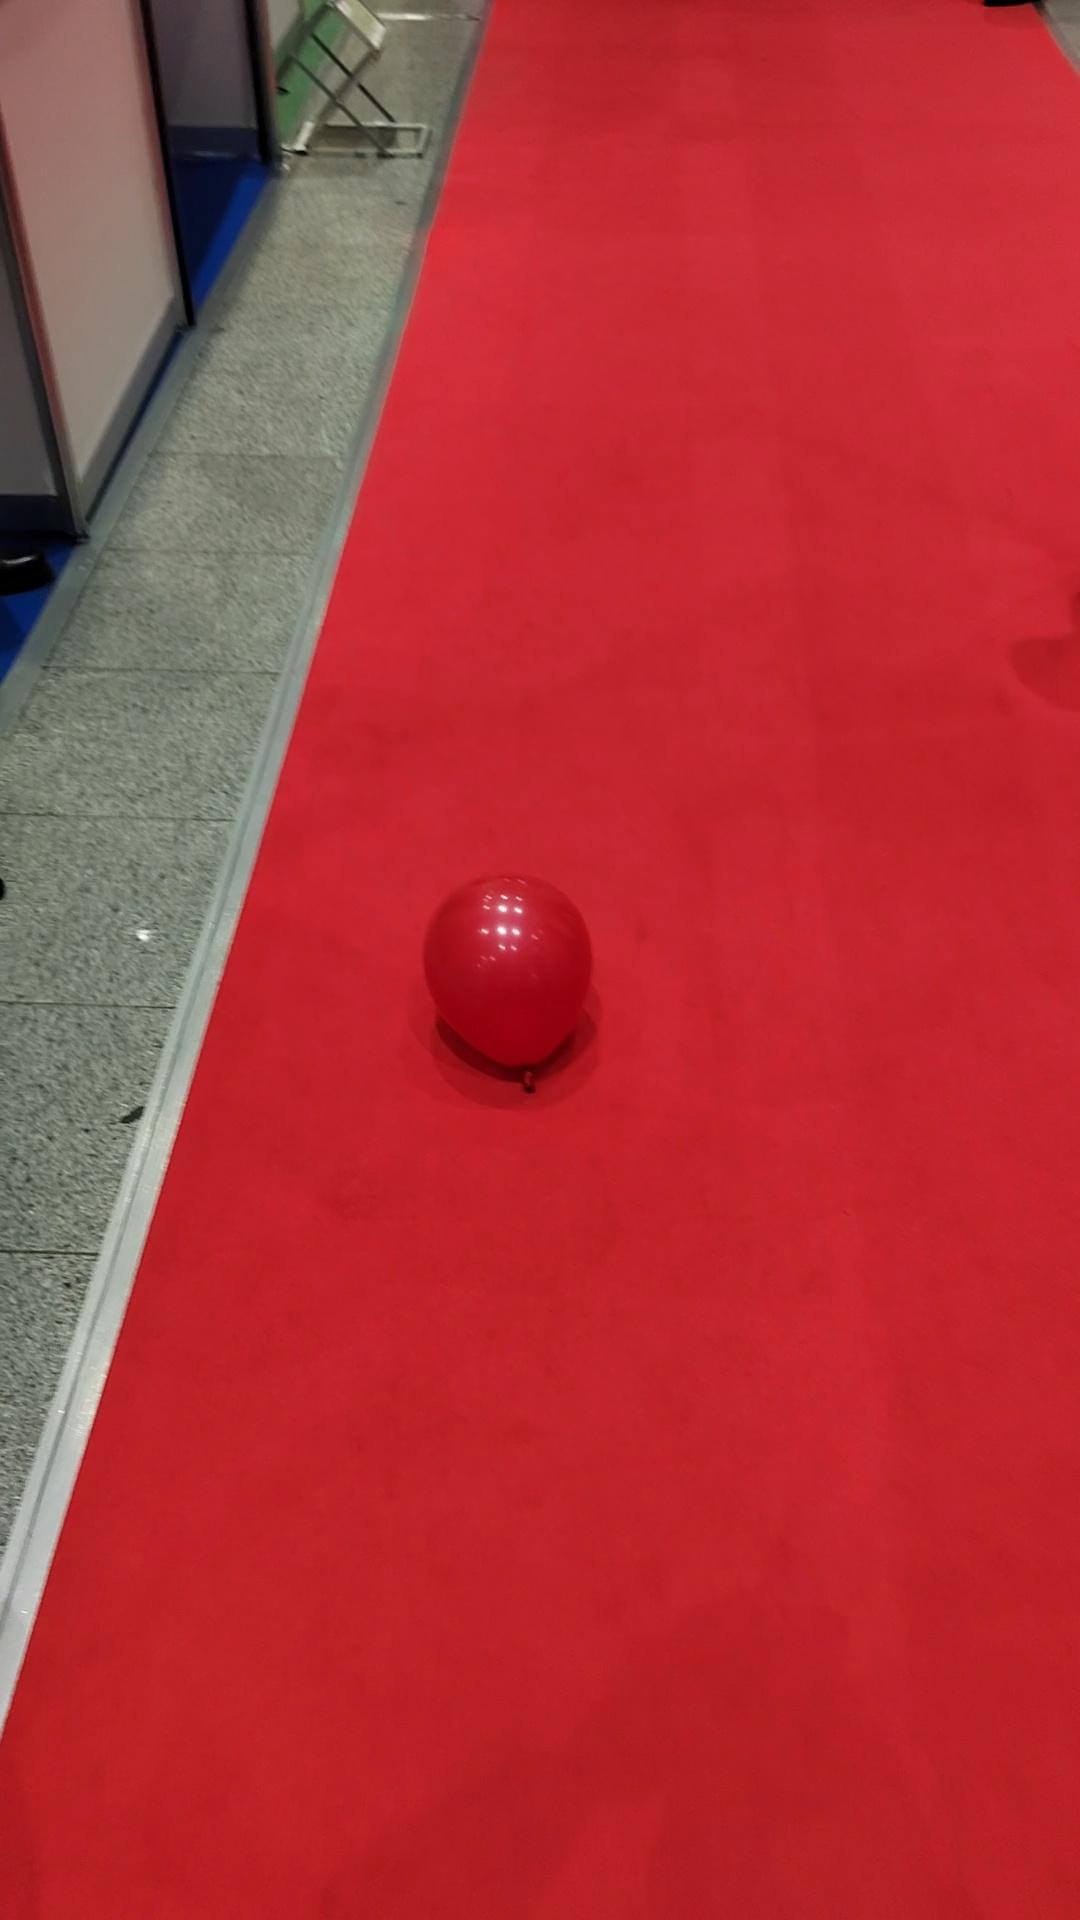red: (423, 870, 597, 1072)
